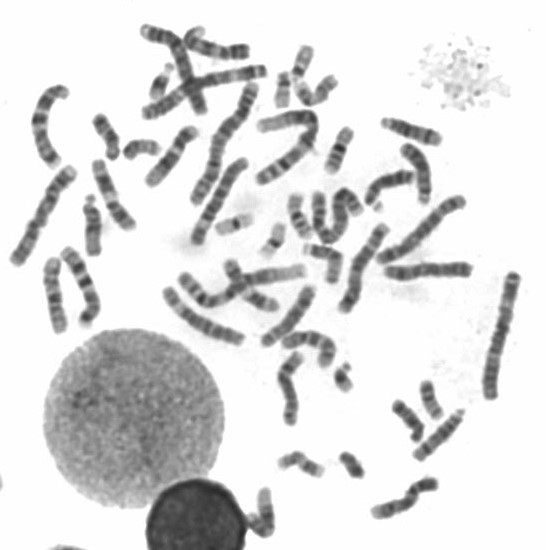chromosomes: (184, 79, 265, 210), (137, 60, 272, 127), (5, 161, 81, 274), (367, 190, 470, 269), (136, 19, 212, 121), (175, 257, 313, 313), (476, 266, 529, 408), (187, 154, 258, 252), (249, 106, 325, 191), (159, 283, 250, 351), (335, 219, 395, 318), (26, 78, 82, 176), (55, 243, 109, 335), (257, 279, 321, 350), (88, 155, 144, 235), (406, 404, 473, 469), (364, 473, 447, 525), (217, 251, 283, 316), (143, 122, 202, 191), (308, 182, 366, 250), (37, 250, 74, 341), (361, 165, 420, 218), (181, 23, 255, 65), (273, 346, 309, 431), (278, 326, 343, 373), (381, 256, 479, 286), (397, 139, 438, 210), (378, 113, 446, 151), (241, 481, 280, 547), (299, 241, 350, 288), (319, 123, 359, 180), (78, 193, 111, 262), (271, 446, 332, 483), (89, 107, 124, 168), (292, 67, 343, 108), (389, 395, 427, 446), (284, 188, 317, 246), (416, 375, 450, 427), (286, 38, 321, 87), (143, 58, 178, 105), (212, 208, 260, 241), (260, 216, 292, 259), (124, 132, 164, 166), (335, 447, 372, 482), (330, 358, 361, 398), (270, 68, 293, 111)
